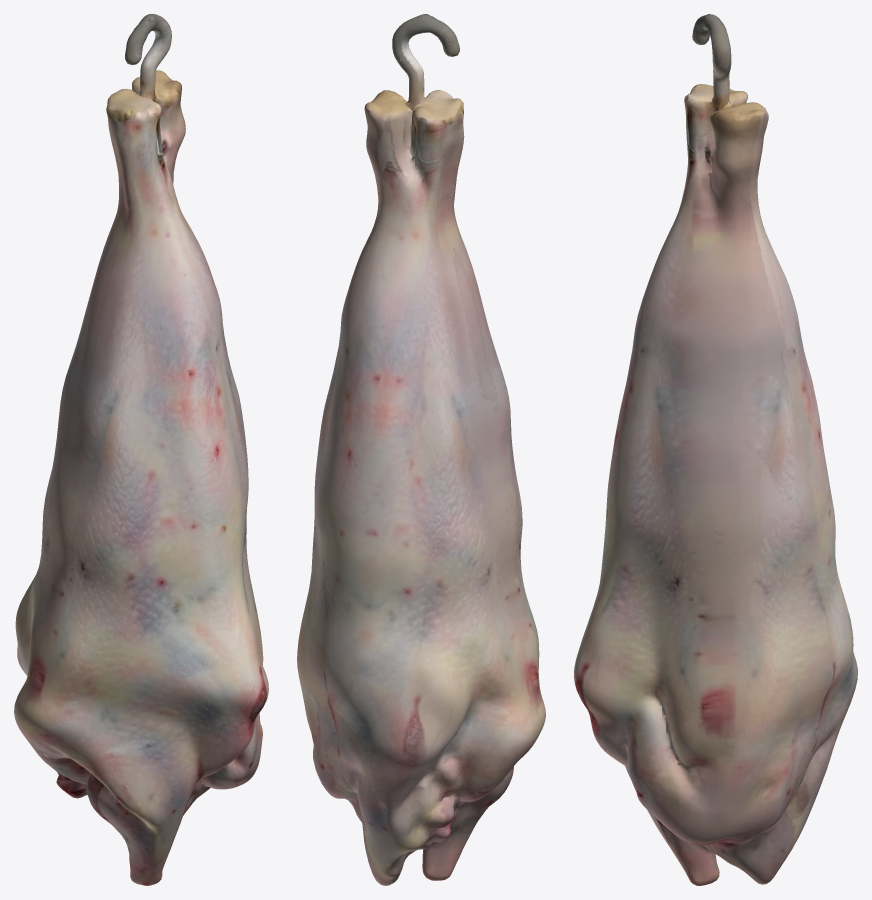
The model's file is lamb-carcass.glb.
3 views of the same model, side by side, from view 1: azimuth 30°, elevation 25°; view 2: azimuth 150°, elevation 25°; view 3: azimuth 270°, elevation 25° (orthographic).
Parts seen in each view (by area): view 1: cowninja-lamb-carcass; view 2: cowninja-lamb-carcass; view 3: cowninja-lamb-carcass.
Boxes of the visible parts, x1,y1,x2,y2 form: cowninja-lamb-carcass: (14, 14, 268, 885); cowninja-lamb-carcass: (297, 14, 545, 885); cowninja-lamb-carcass: (574, 14, 857, 885).
Size of the model in its own units: 0.2785 by 0.9999 by 0.2947.
Materials: 1 (1 with a texture image).
